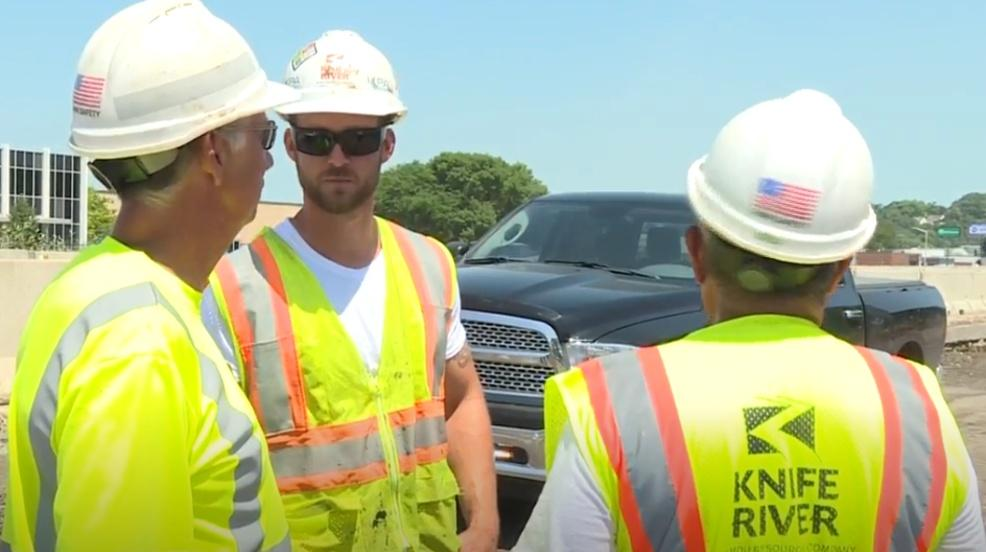helmet: (70, 2, 294, 134), (693, 90, 874, 245), (274, 29, 409, 127)
